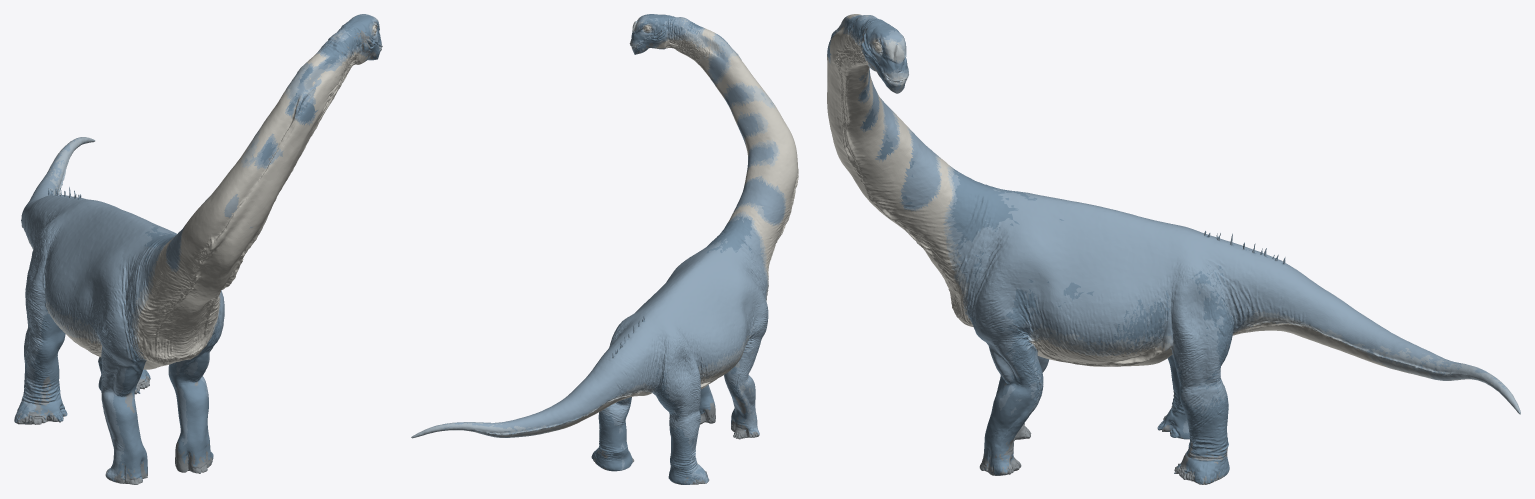
File: nagatitan_v2.glb
The picture shows the model from 3 angles, left to right: view 1: azimuth 30°, elevation 25°; view 2: azimuth 150°, elevation 25°; view 3: azimuth 270°, elevation 25°; orthographic projection. The views are drawn at different scales.
Visible parts, largest first — view 1: Node4; view 2: Node4; view 3: Node4.
Boxes of the visible parts, x1,y1,x2,y2 form: Node4: (14, 14, 382, 484); Node4: (411, 14, 798, 484); Node4: (827, 14, 1520, 484).
Size of the model in its own units: 41.7 by 78.8 by 98.57.
